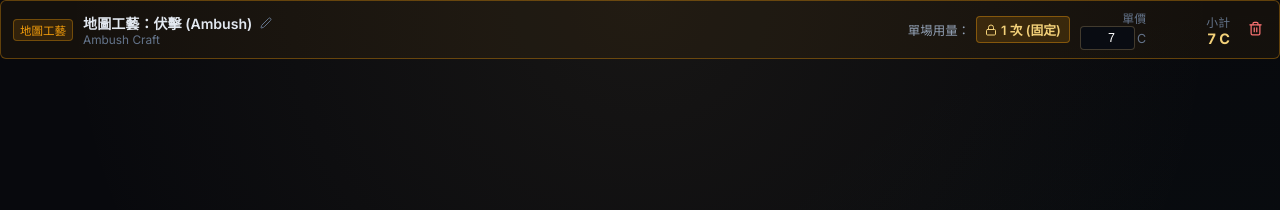
it: AtlasExtraItemRow Component (Issue #16) › enters edit mode on double click on the item name
Double-click the text "地圖工藝：伏擊 (Ambush)" at (168, 22), box [83, 12, 252, 32]
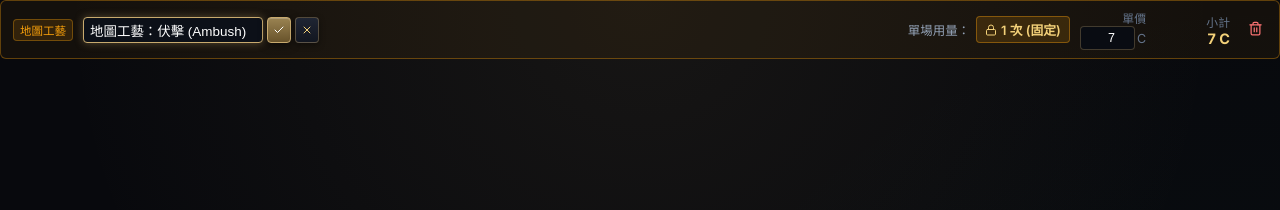
Result: the field showing "地圖工藝：伏擊 (Ambush)" is shown at [83, 16, 263, 42]
